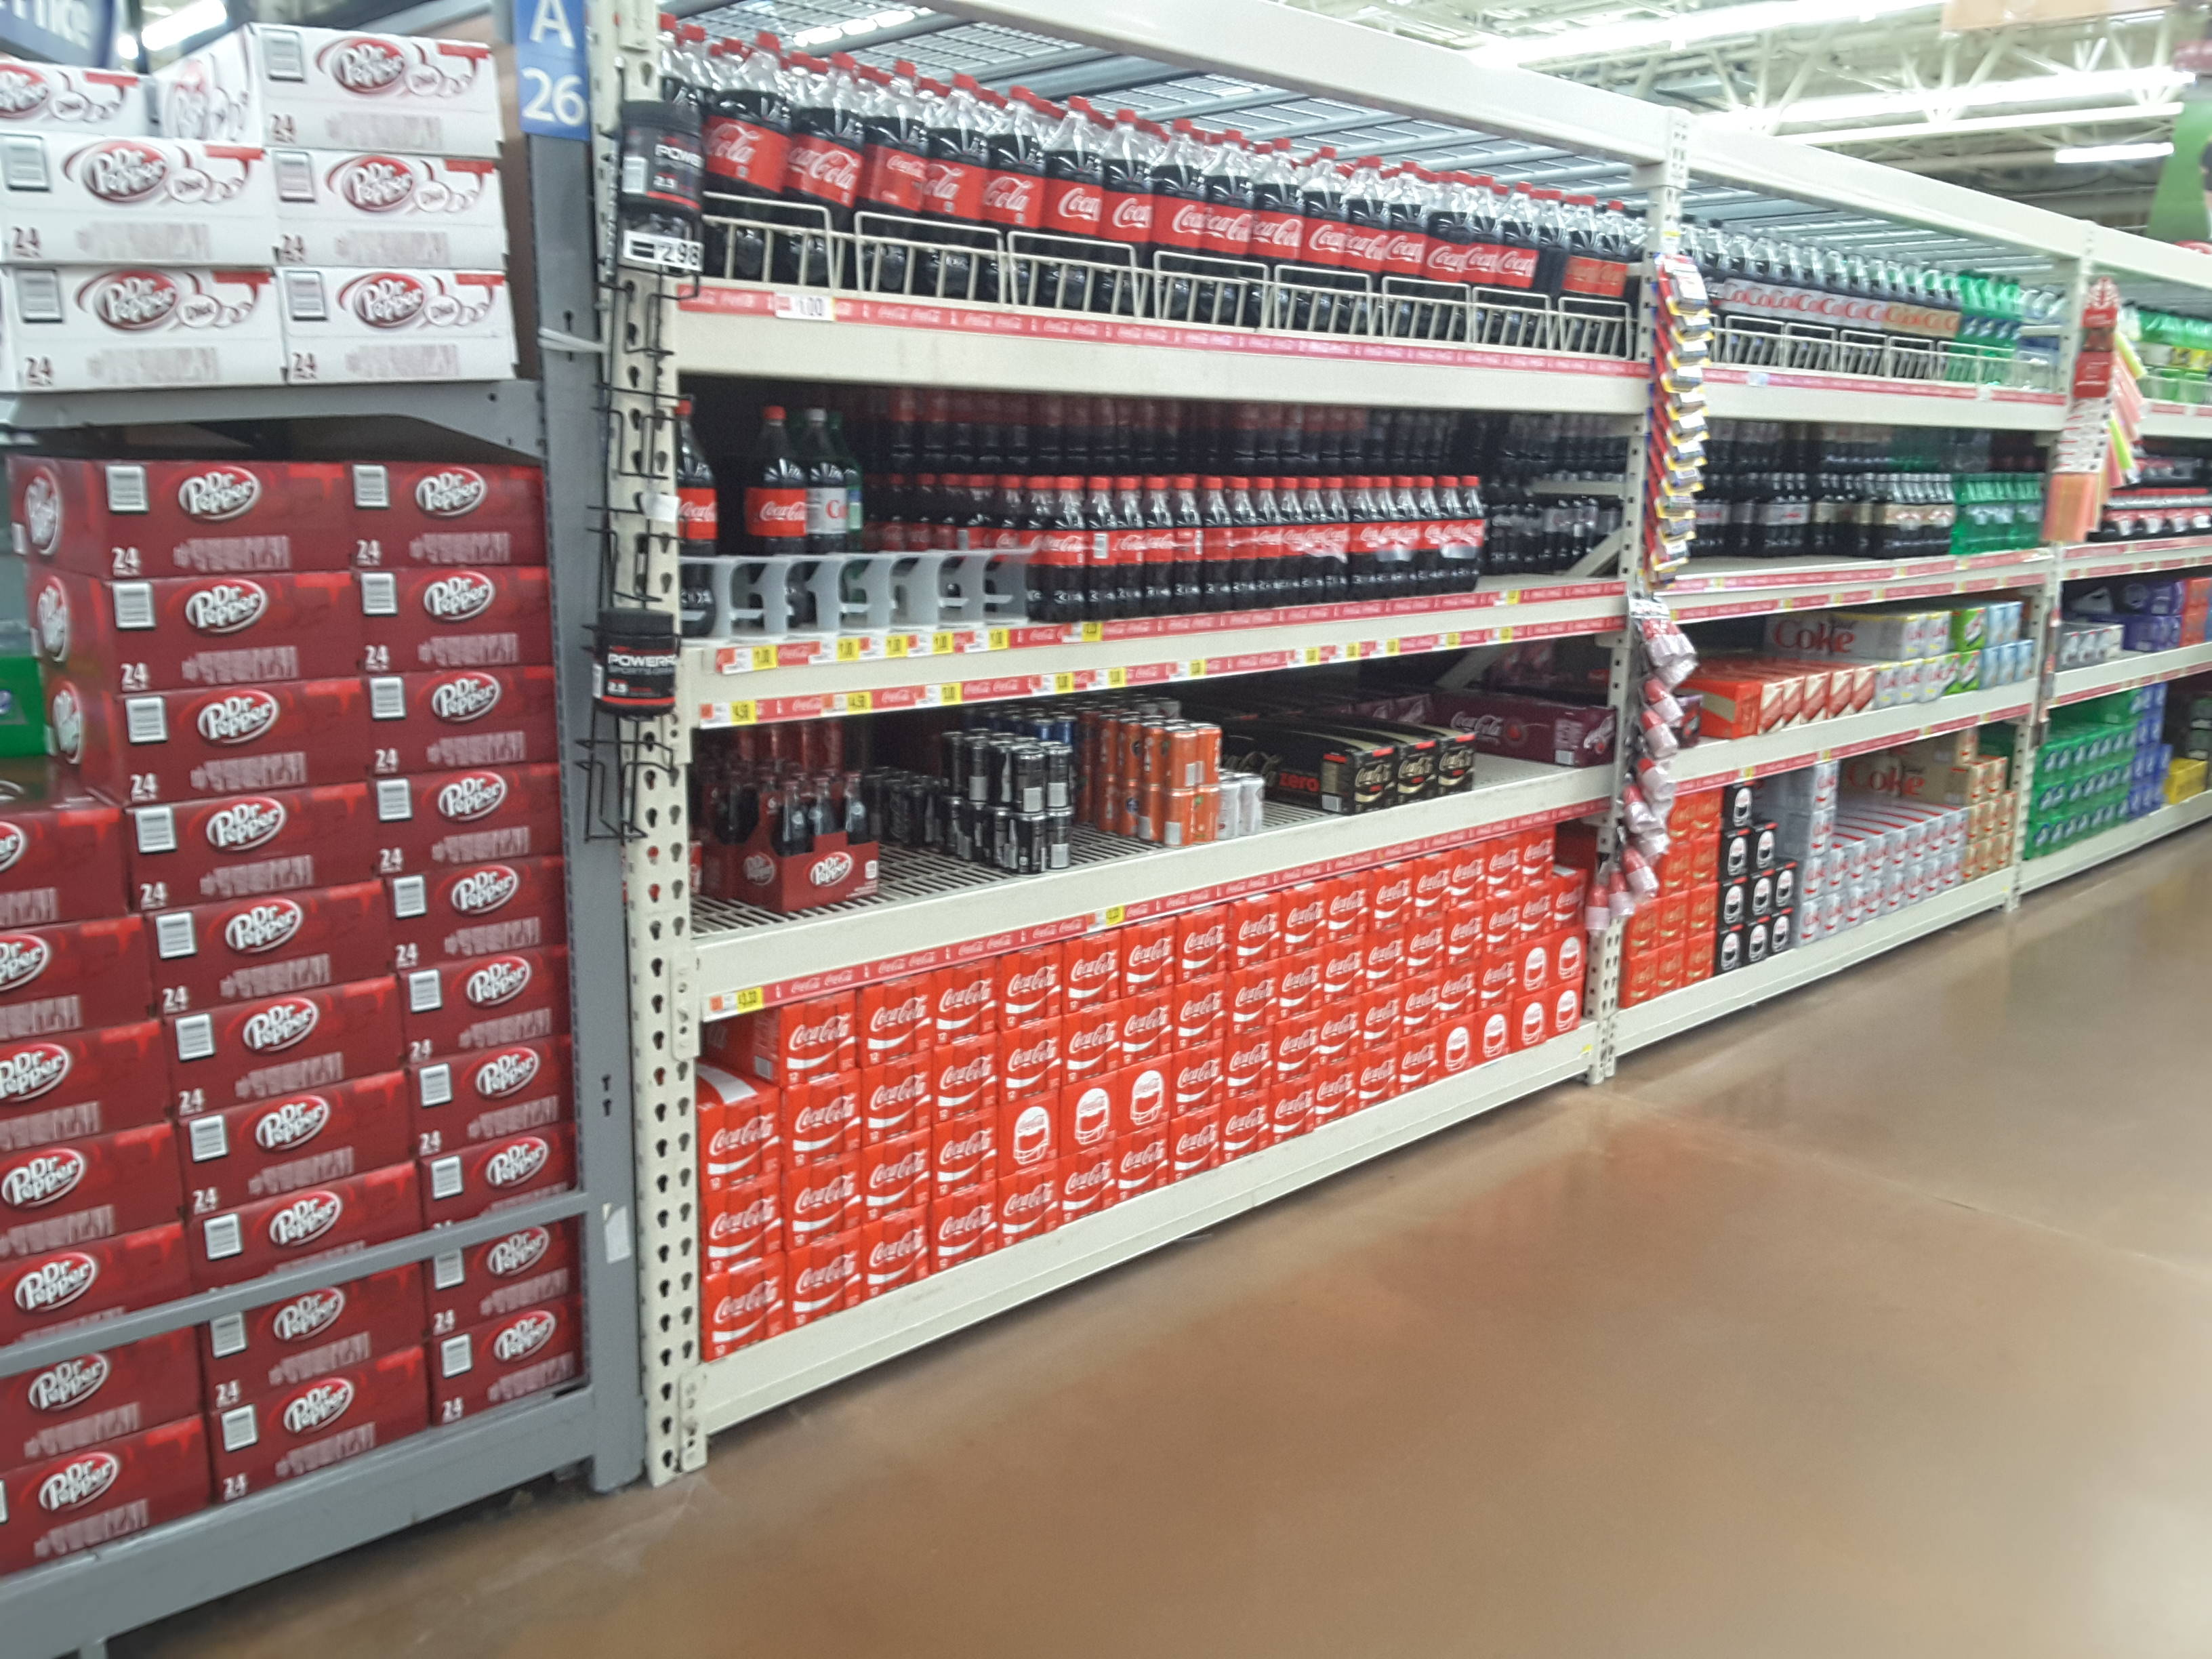Misplacement: (695, 1007, 780, 1361), (688, 716, 782, 953), (1029, 718, 1165, 863), (1475, 477, 1608, 594), (1770, 467, 1888, 579), (1679, 476, 1771, 582)
Out-of-stock: (887, 746, 1015, 908), (1259, 735, 1350, 829)
